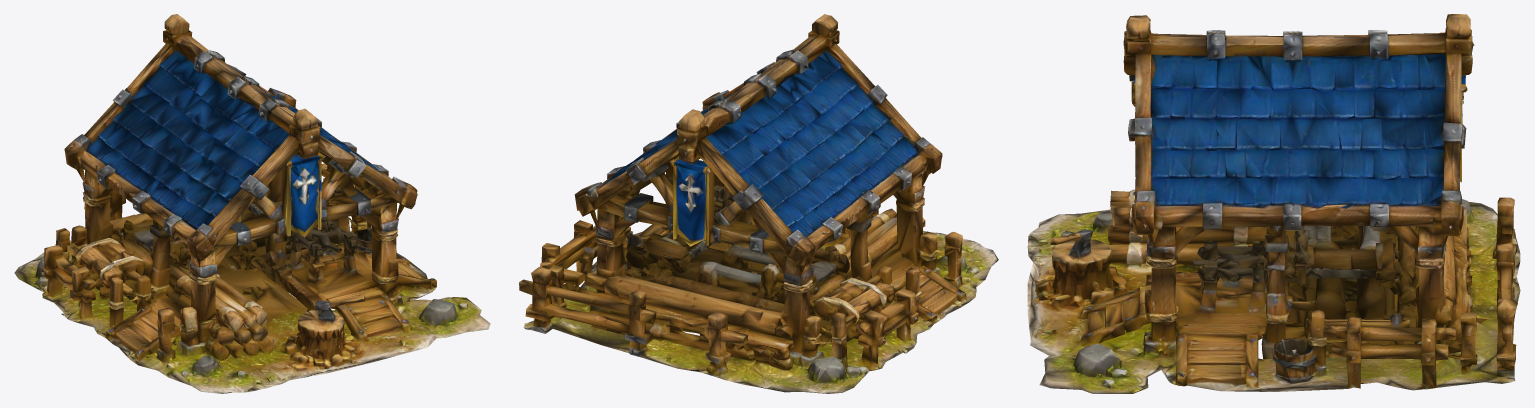
The model's file is woodcutter_hut_opt.glb.
The picture shows the model from 3 angles, left to right: view 1: azimuth 30°, elevation 25°; view 2: azimuth 150°, elevation 25°; view 3: azimuth 270°, elevation 25°; orthographic projection. The views are drawn at different scales.
Visible parts, largest first — view 1: model; view 2: model; view 3: model.
Part boxes in pixels (x1,y1,x2,y2): model: (14,14,490,393); model: (519,14,998,393); model: (1027,14,1520,393).
Bounding box in the file's own units: 1.79 × 1.2 × 1.89.
1 material, 1 textured.
